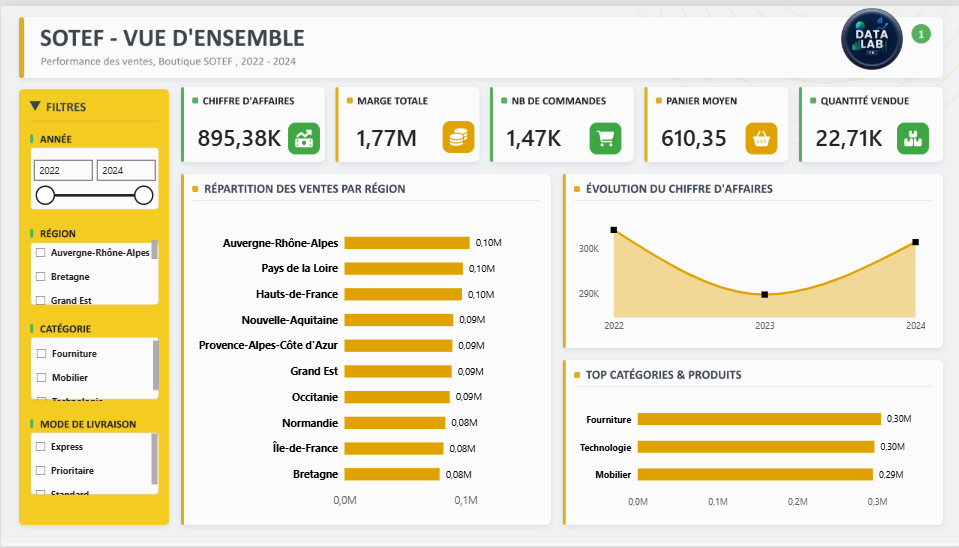

What the dashboard file says about the page in this screenshot:
{"tool":"powerbi","page":{"name":"Vue d'ensemble","canvas":[1280,720],"ordinal":0},"visuals":[{"type":"image","box":[1119.1,0,83,87.8],"z":0},{"type":"cardVisual","fields":{"Data":["Mesures.Chiffre d'affaire"]},"box":[245.4,140,181.5,68.5],"z":1000},{"type":"cardVisual","fields":{"Data":["Mesures.Marge total"]},"box":[458.3,140,170,68.3],"z":2000},{"type":"cardVisual","fields":{"Data":["Mesures.Nb de commandes"]},"box":[658.3,140,181.5,68.5],"z":3000},{"type":"cardVisual","fields":{"Data":["Mesures.Panier moyen"]},"box":[863.3,140,181.5,68.5],"z":4000},{"type":"cardVisual","fields":{"Data":["Mesures.Quantité vendue"]},"box":[1070,140,181.5,68.5],"z":5000},{"type":"image","box":[373.3,153.3,60,45],"z":6000},{"type":"image","box":[579,152.9,60.2,45.5],"z":7000},{"type":"image","box":[776.7,153.3,60,45],"z":8000},{"type":"image","box":[983.3,153.3,60,45],"z":9000},{"type":"image","box":[1186.7,153.3,60,45],"z":10000},{"type":"slicer","fields":{"Values":["Ventes_SOTEF_brut.Date_Commande.Variation.Hiérarchie de dates.Année"]},"box":[35.8,200.1,170.8,92.7],"z":11000},{"type":"slicer","fields":{"Values":["Ventes_SOTEF_brut.Region"]},"box":[37.4,312.3,170.8,89.5],"z":12000},{"type":"slicer","fields":{"Values":["Ventes_SOTEF_brut.Categorie"]},"box":[39,445.7,170.8,79.7],"z":13000},{"type":"slicer","fields":{"Values":["Ventes_SOTEF_brut.Mode_Livraison"]},"box":[37.4,569.3,170.8,81.3],"z":14000},{"type":"clusteredBarChart","fields":{"Category":["Ventes_SOTEF_brut.Region"],"Y":["Mesures.Chiffre d'affaire"]},"box":[245.6,271.6,486.3,418],"z":15000},{"type":"clusteredBarChart","fields":{"Category":["Ventes_SOTEF_brut.Categorie"],"Y":["Mesures.Chiffre d'affaire"]},"box":[753.1,505.9,497.7,183.8],"z":16000},{"type":"lineChart","fields":{"Category":["Ventes_SOTEF_brut.Date_Commande.Variation.Hiérarchie de dates.Année"],"Y":["Mesures.Chiffre d'affaire"]},"box":[753.1,270,494.5,185.4],"z":17000}]}

Visuals, with their boxes in screenshot pixels (x1, y1, x2, y2), scaled from the page's 1280x720 canvas onto the 959x548 screenshot:
image: crop(838, 0, 901, 67)
cardVisual - Mesures.Chiffre d'affaire: crop(184, 107, 320, 159)
cardVisual - Mesures.Marge total: crop(343, 107, 471, 159)
cardVisual - Mesures.Nb de commandes: crop(493, 107, 629, 159)
cardVisual - Mesures.Panier moyen: crop(647, 107, 783, 159)
cardVisual - Mesures.Quantité vendue: crop(802, 107, 938, 159)
image: crop(280, 117, 325, 151)
image: crop(434, 116, 479, 151)
image: crop(582, 117, 627, 151)
image: crop(737, 117, 782, 151)
image: crop(889, 117, 934, 151)
slicer - Ventes_SOTEF_brut.Date_Commande.Variation.Hiérarchie de dates.Année: crop(27, 152, 155, 223)
slicer - Ventes_SOTEF_brut.Region: crop(28, 238, 156, 306)
slicer - Ventes_SOTEF_brut.Categorie: crop(29, 339, 157, 400)
slicer - Ventes_SOTEF_brut.Mode_Livraison: crop(28, 433, 156, 495)
clusteredBarChart - Ventes_SOTEF_brut.Region x Mesures.Chiffre d'affaire: crop(184, 207, 548, 525)
clusteredBarChart - Ventes_SOTEF_brut.Categorie x Mesures.Chiffre d'affaire: crop(564, 385, 937, 525)
lineChart - Ventes_SOTEF_brut.Date_Commande.Variation.Hiérarchie de dates.Année x Mesures.Chiffre d'affaire: crop(564, 206, 935, 347)
